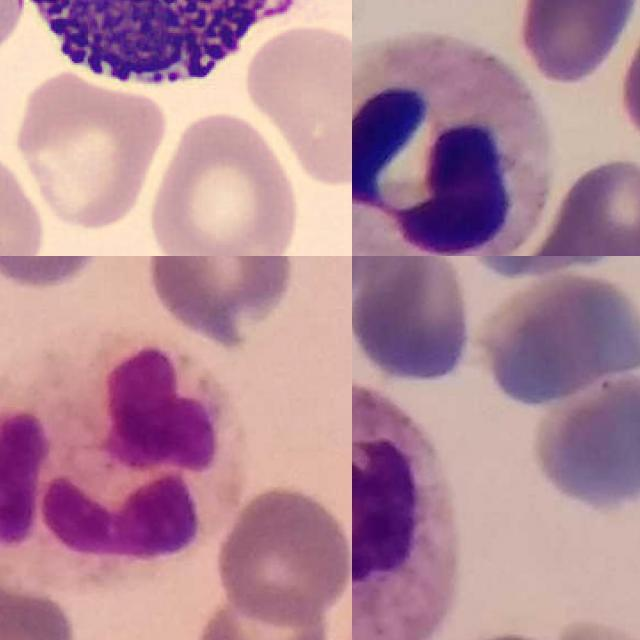Basophil: (0, 0, 337, 108)
Neutrophil: (0, 326, 247, 590), (352, 34, 548, 256), (352, 389, 457, 640)
RBC: (10, 70, 170, 232), (143, 107, 305, 256), (242, 20, 352, 189), (0, 144, 48, 256)
